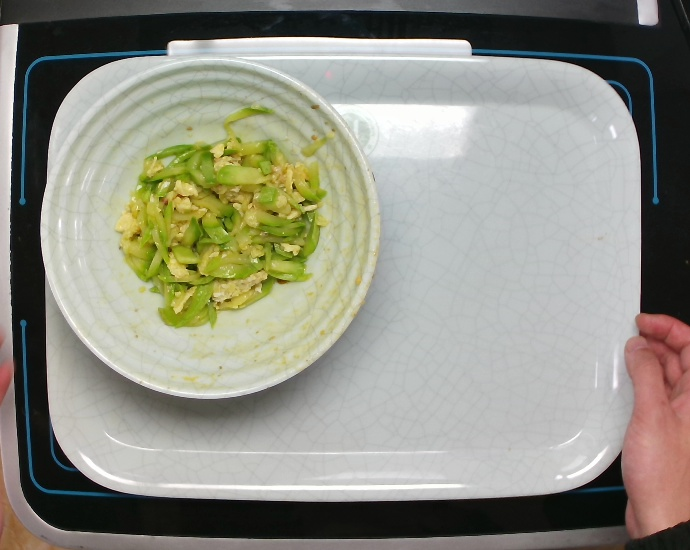JYsf-Da_Tang_Wan: (38, 57, 383, 403)
